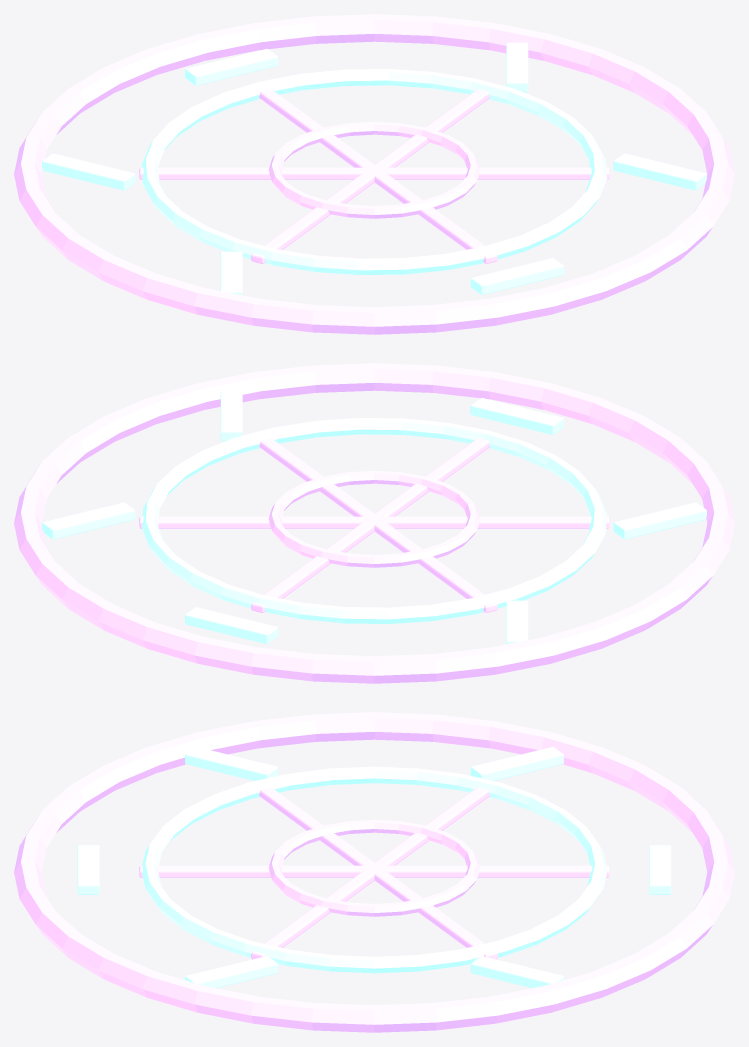
Rendered from vfx_guardian_telegraph_v0_7.glb.
3 views of the same model, one above another, from view 1: azimuth 30°, elevation 25°; view 2: azimuth 150°, elevation 25°; view 3: azimuth 270°, elevation 25° (orthographic).
Parts seen in each view (by area): view 1: presentation_guardian_warning_outer, presentation_guardian_warning_middle, presentation_guardian_warning_core, presentation_guardian_axis_1, presentation_guardian_axis_2, presentation_guardian_axis_0, presentation_guardian_rune_04, presentation_guardian_rune_03, presentation_guardian_rune_00, presentation_guardian_rune_01, presentation_guardian_rune_02, presentation_guardian_rune_05; view 2: presentation_guardian_warning_outer, presentation_guardian_warning_middle, presentation_guardian_warning_core, presentation_guardian_axis_2, presentation_guardian_axis_0, presentation_guardian_axis_1, presentation_guardian_rune_05, presentation_guardian_rune_00, presentation_guardian_rune_02, presentation_guardian_rune_03, presentation_guardian_rune_01, presentation_guardian_rune_04; view 3: presentation_guardian_warning_outer, presentation_guardian_warning_middle, presentation_guardian_warning_core, presentation_guardian_axis_0, presentation_guardian_axis_1, presentation_guardian_axis_2, presentation_guardian_rune_04, presentation_guardian_rune_05, presentation_guardian_rune_01, presentation_guardian_rune_02, presentation_guardian_rune_00, presentation_guardian_rune_03.
Boxes of the visible parts, <box> form: presentation_guardian_warning_outer: <box>14,14,734,334</box>; presentation_guardian_warning_middle: <box>141,69,607,274</box>; presentation_guardian_warning_core: <box>269,121,479,218</box>; presentation_guardian_axis_1: <box>139,167,609,179</box>; presentation_guardian_axis_2: <box>251,89,489,263</box>; presentation_guardian_axis_0: <box>259,89,497,263</box>; presentation_guardian_rune_04: <box>42,153,135,190</box>; presentation_guardian_rune_03: <box>185,49,278,85</box>; presentation_guardian_rune_00: <box>470,258,563,294</box>; presentation_guardian_rune_01: <box>613,153,706,190</box>; presentation_guardian_rune_02: <box>506,42,528,92</box>; presentation_guardian_rune_05: <box>220,251,242,295</box>; presentation_guardian_warning_outer: <box>14,363,734,683</box>; presentation_guardian_warning_middle: <box>141,418,607,623</box>; presentation_guardian_warning_core: <box>269,470,479,567</box>; presentation_guardian_axis_2: <box>139,516,609,528</box>; presentation_guardian_axis_0: <box>251,438,489,612</box>; presentation_guardian_axis_1: <box>259,438,497,612</box>; presentation_guardian_rune_05: <box>613,502,706,539</box>; presentation_guardian_rune_00: <box>470,398,563,434</box>; presentation_guardian_rune_02: <box>42,502,135,539</box>; presentation_guardian_rune_03: <box>185,607,278,643</box>; presentation_guardian_rune_01: <box>220,391,242,441</box>; presentation_guardian_rune_04: <box>506,600,528,644</box>; presentation_guardian_warning_outer: <box>14,712,734,1032</box>; presentation_guardian_warning_middle: <box>142,766,606,973</box>; presentation_guardian_warning_core: <box>269,819,479,916</box>; presentation_guardian_axis_0: <box>139,865,609,877</box>; presentation_guardian_axis_1: <box>251,787,489,959</box>; presentation_guardian_axis_2: <box>259,787,497,959</box>; presentation_guardian_rune_04: <box>470,747,563,780</box>; presentation_guardian_rune_05: <box>185,747,278,780</box>; presentation_guardian_rune_01: <box>185,956,278,988</box>; presentation_guardian_rune_02: <box>470,956,563,988</box>; presentation_guardian_rune_00: <box>77,845,99,894</box>; presentation_guardian_rune_03: <box>649,845,671,894</box>.
Size of the model in its own units: 3.91 by 0.1299 by 3.91.
